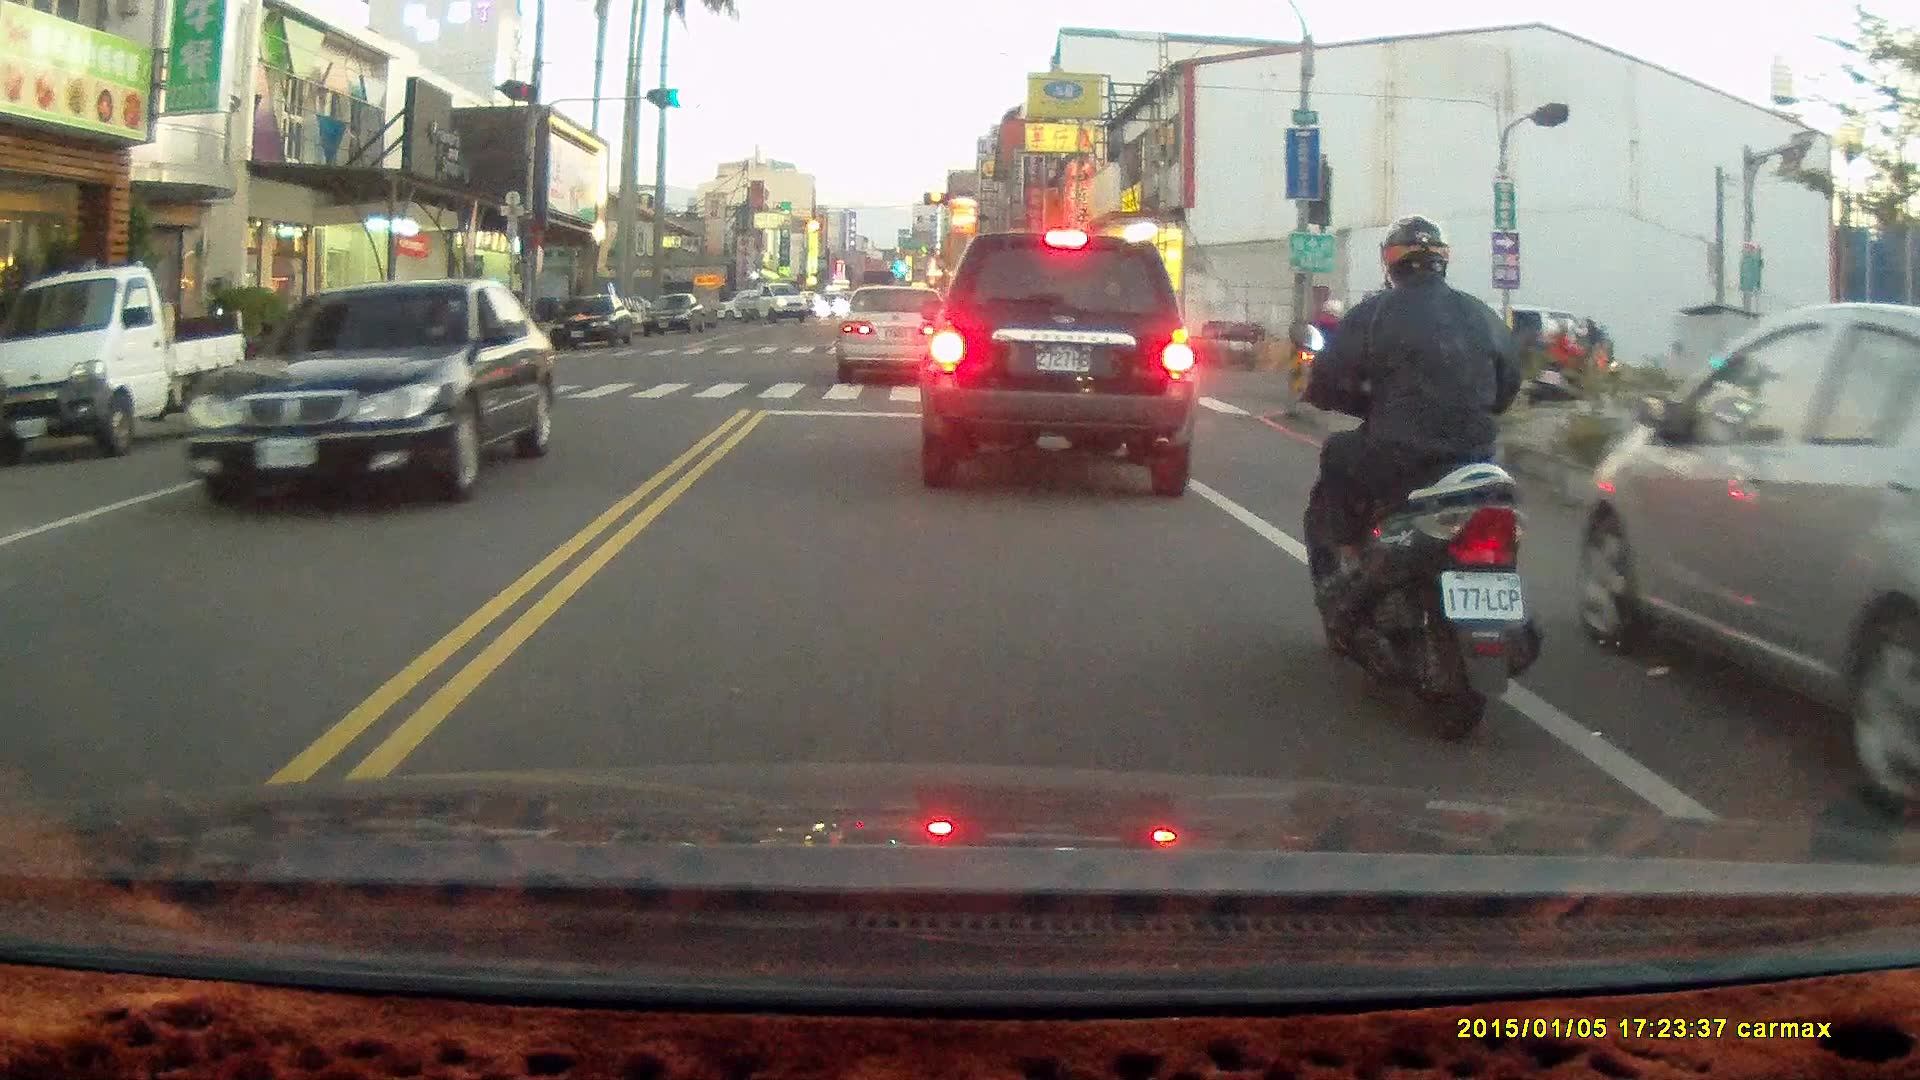rider: (1286, 215, 1542, 740), (1295, 300, 1382, 402), (1521, 315, 1601, 409), (1549, 313, 1619, 397)
vehicle: (1570, 303, 1920, 784), (181, 277, 560, 509), (918, 229, 1199, 499), (1, 268, 252, 458), (838, 284, 948, 381), (552, 294, 642, 352), (641, 295, 709, 338)
